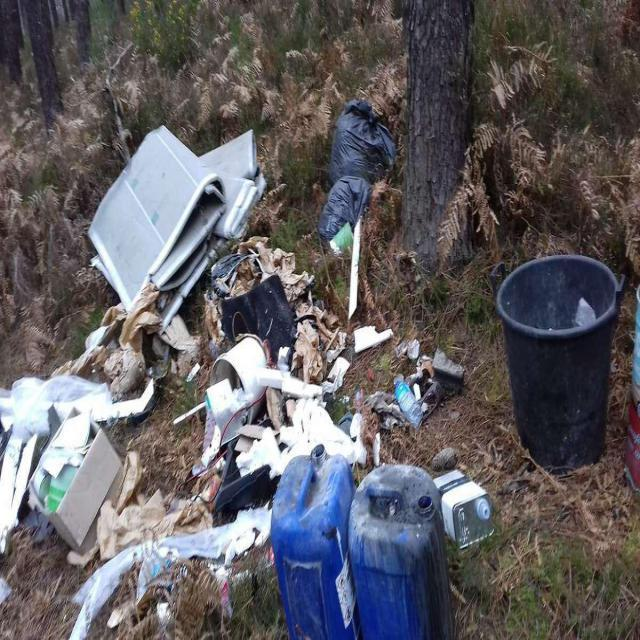Trashbag: (329, 103, 390, 173), (319, 165, 374, 234)
